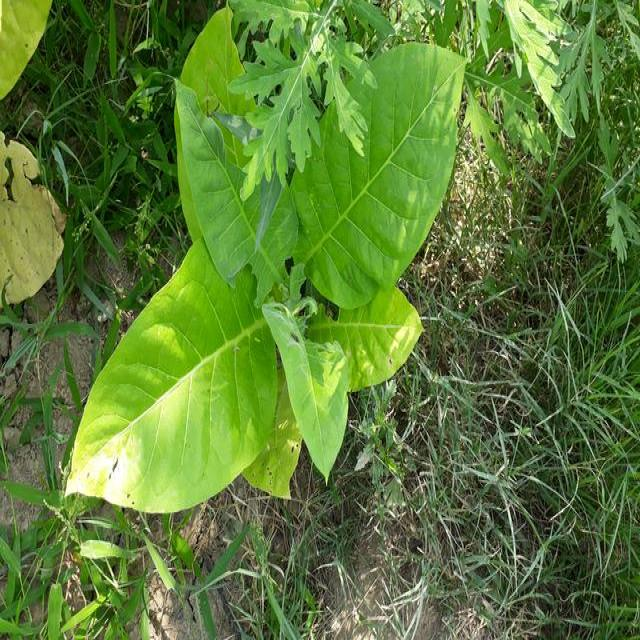crop: (74, 34, 470, 508), (0, 128, 67, 316), (0, 0, 51, 96)
